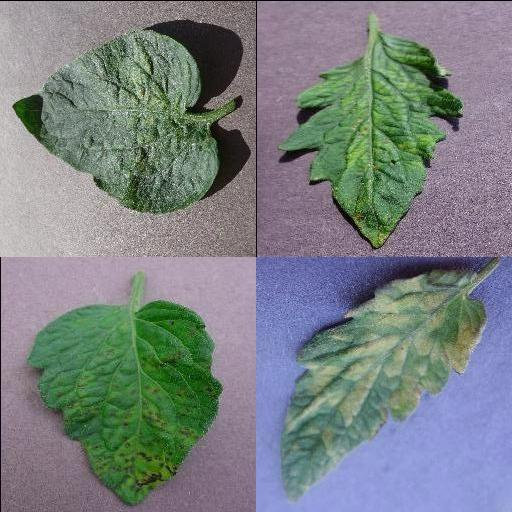Leaf Mold: (281, 270, 489, 498)
Mosaic Virus: (276, 31, 462, 250)
Septoria: (24, 298, 222, 506)
Spider Mites: (11, 28, 219, 214)
